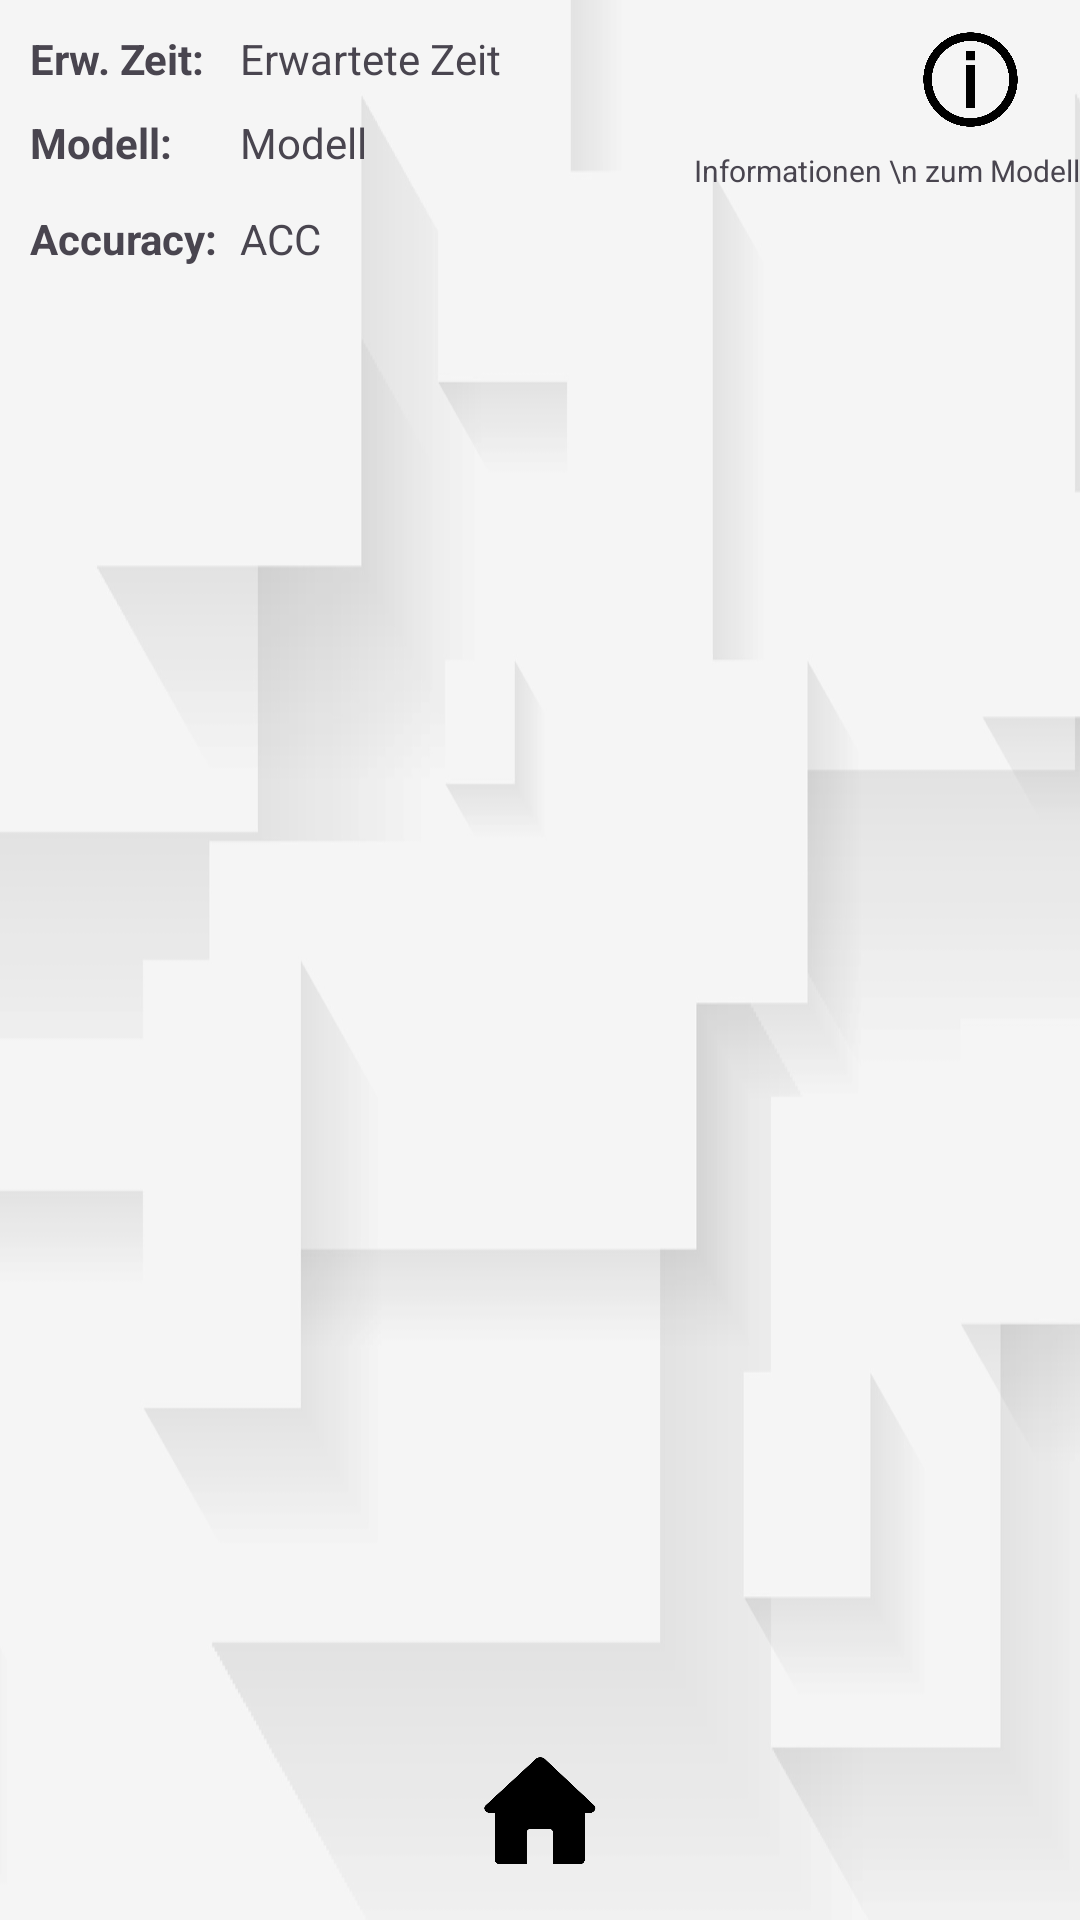

Icons on this 1080 x 1920 Android screen, each with the point to tap as (x,y):
home: (540,1810)
infobutton: (970,79)
